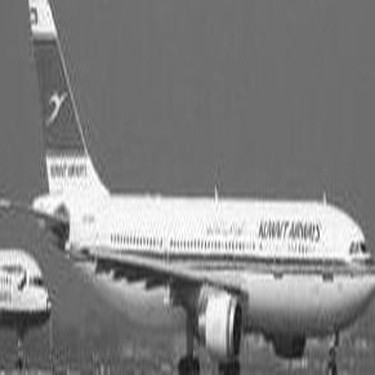airplane: (12, 1, 368, 368), (1, 231, 68, 373)
